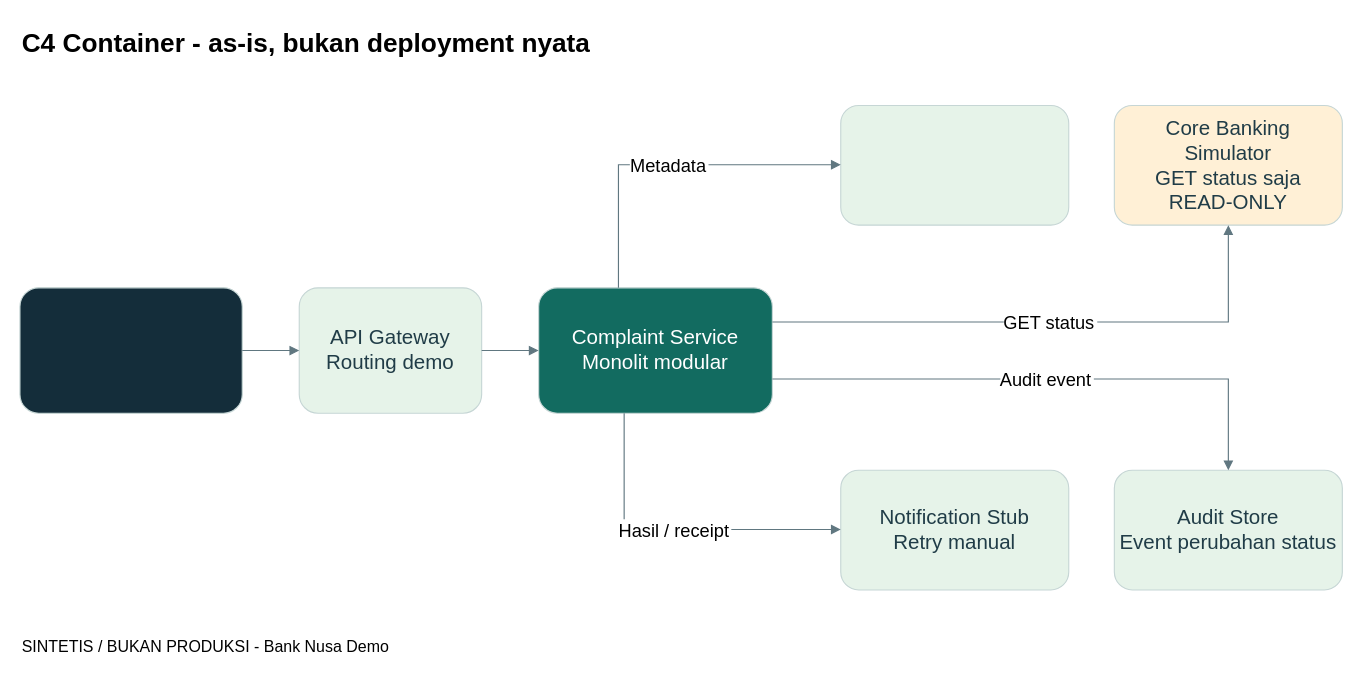
This 1362x683 diagram has some shape labels left out. Each missing label, with the box of its shape:
Complaint DB PostgreSQL Metadata, bukan ledger: (840, 104, 1069, 225)
Portal & CS Workspace Web UI simulasi: (19, 287, 242, 413)
